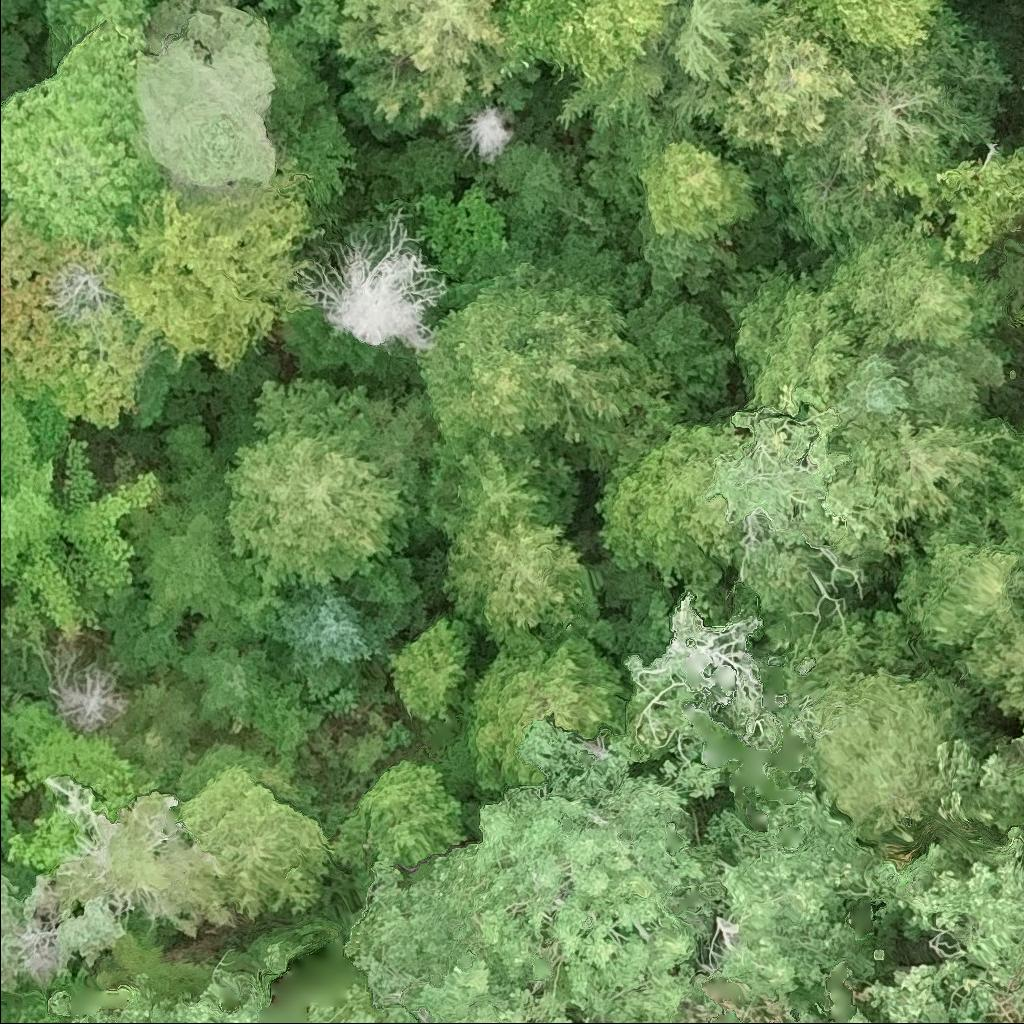crown: (343, 752, 732, 1023), (766, 5, 1019, 252), (101, 157, 329, 374), (0, 385, 171, 650), (225, 378, 426, 590), (701, 792, 881, 1001), (0, 16, 161, 246), (0, 205, 159, 429), (850, 818, 1023, 1023), (554, 0, 791, 130), (805, 661, 976, 836), (135, 0, 279, 199), (804, 212, 1010, 349), (465, 626, 628, 798), (287, 0, 505, 125), (408, 261, 560, 438), (174, 761, 341, 922), (592, 414, 741, 593), (706, 10, 862, 159), (537, 276, 651, 470), (120, 459, 249, 628), (296, 207, 448, 350), (733, 261, 863, 407), (329, 758, 467, 893), (422, 426, 579, 541), (442, 516, 583, 639), (871, 405, 1016, 523), (868, 139, 1002, 259), (265, 583, 397, 702), (893, 530, 1023, 647), (494, 0, 678, 82), (389, 945, 579, 1023), (634, 130, 762, 242), (790, 955, 993, 1023), (51, 970, 269, 1023), (277, 298, 412, 378), (786, 0, 948, 65), (175, 629, 277, 732), (953, 577, 1023, 720), (627, 214, 740, 299), (413, 185, 512, 281), (492, 140, 606, 223), (44, 623, 131, 728), (896, 335, 1002, 421), (282, 94, 358, 207), (837, 326, 913, 433), (621, 286, 719, 360), (344, 545, 427, 631), (376, 134, 455, 202), (311, 983, 415, 1023), (987, 435, 1023, 543), (452, 104, 517, 163), (0, 599, 25, 660), (1020, 86, 1023, 94)
